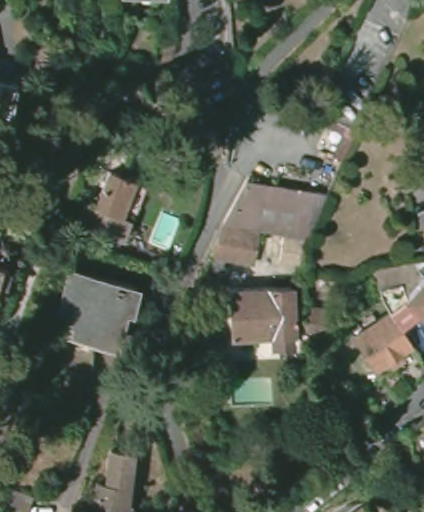pool: (226, 373, 276, 409), (148, 210, 181, 254)
